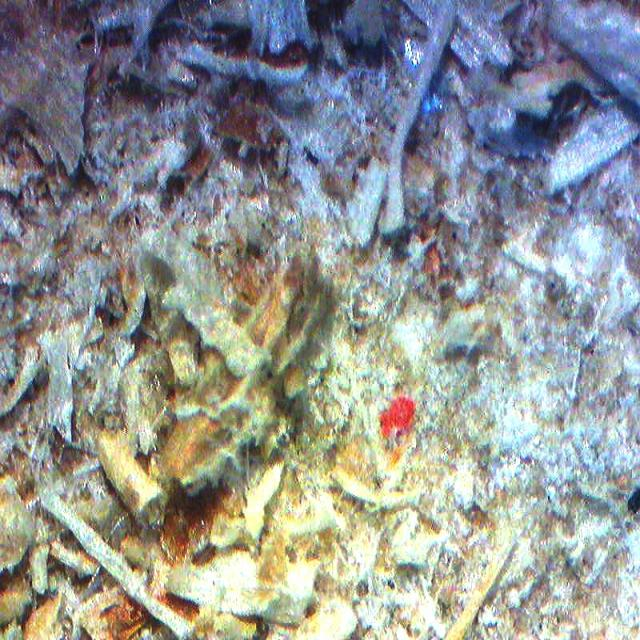microplastic: (378, 394, 415, 438)
